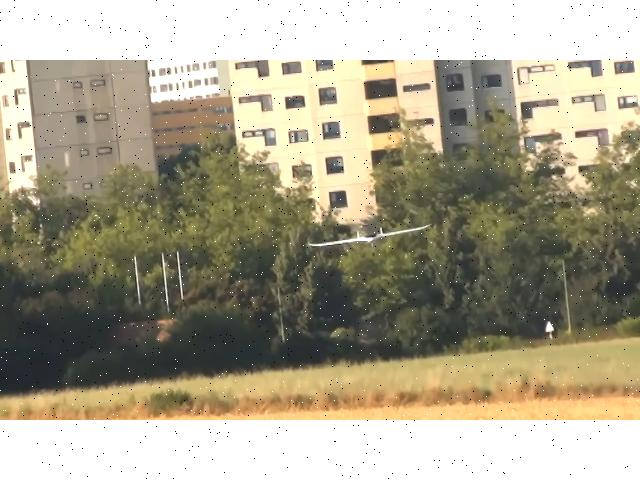Anti-Drone: (312, 223, 432, 247)
